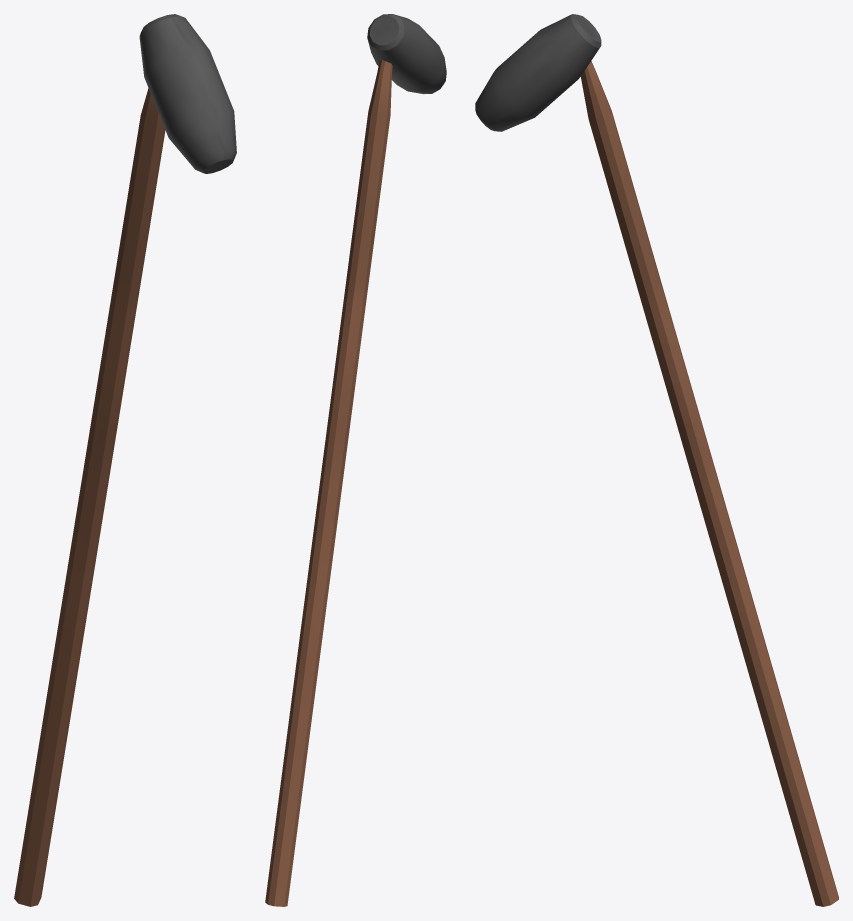
File: SM_BoomMic.fbx
3 views of the same model, side by side, from view 1: azimuth 30°, elevation 25°; view 2: azimuth 150°, elevation 25°; view 3: azimuth 270°, elevation 25° (orthographic). The views are drawn at different scales.
Visible parts, largest first — view 1: Boom Mic; view 2: Boom Mic; view 3: Boom Mic.
Boxes of the visible parts, x1,y1,x2,y2 form: Boom Mic: (14,14,236,906); Boom Mic: (265,14,446,906); Boom Mic: (475,14,838,906).
Size of the model in its own units: 0.1208 by 1.86 by 0.6898.
